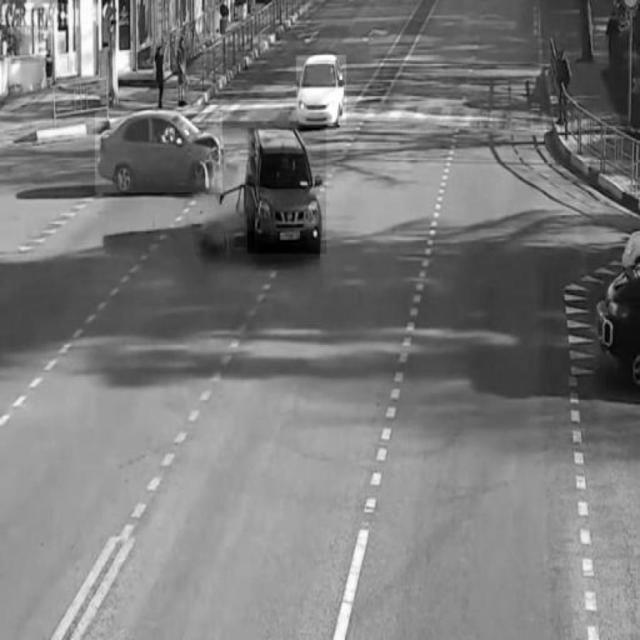vehicle: (95, 112, 223, 193), (248, 128, 326, 254), (297, 56, 347, 126)
